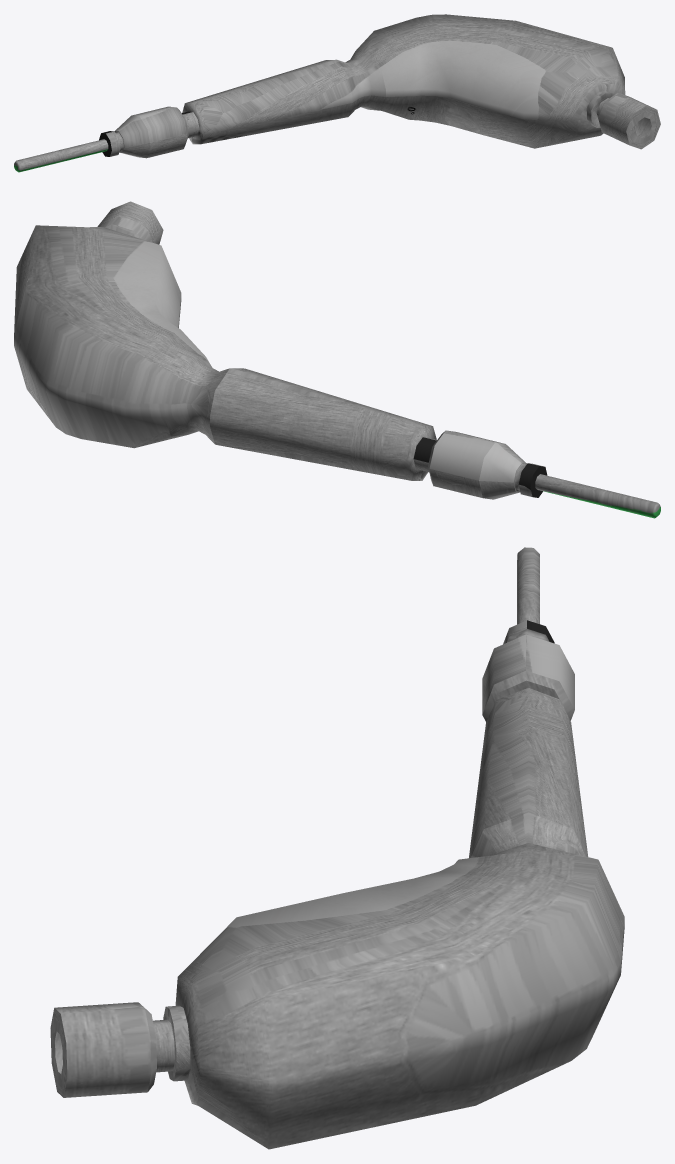
The model's file is Trepano.fbx.
3 views of the same model, one above another, from view 1: azimuth 30°, elevation 25°; view 2: azimuth 150°, elevation 25°; view 3: azimuth 270°, elevation 25° (orthographic). The views are drawn at different scales.
Parts seen in each view (by area): view 1: trepano.001, Trepano_mandril.001, Trepano_punta.001; view 2: trepano.001, Trepano_mandril.001, Trepano_punta.001; view 3: trepano.001, Trepano_mandril.001, Trepano_punta.001.
Boxes of the visible parts, left/top/right/bottom form: trepano.001: left=182, top=14, right=660, bottom=149; Trepano_mandril.001: left=99, top=106, right=199, bottom=158; Trepano_punta.001: left=14, top=139, right=108, bottom=172; trepano.001: left=14, top=201, right=436, bottom=480; Trepano_mandril.001: left=413, top=430, right=547, bottom=499; Trepano_punta.001: left=535, top=474, right=660, bottom=518; trepano.001: left=50, top=688, right=624, bottom=1149; Trepano_mandril.001: left=482, top=620, right=574, bottom=721; Trepano_punta.001: left=517, top=547, right=539, bottom=624.
Size of the model in its own units: 2715 by 401 by 1238.
